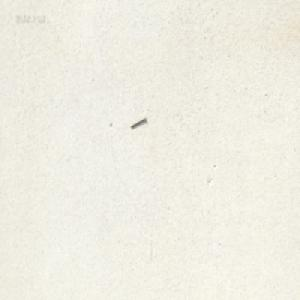Bolt: (129, 115, 145, 128)
